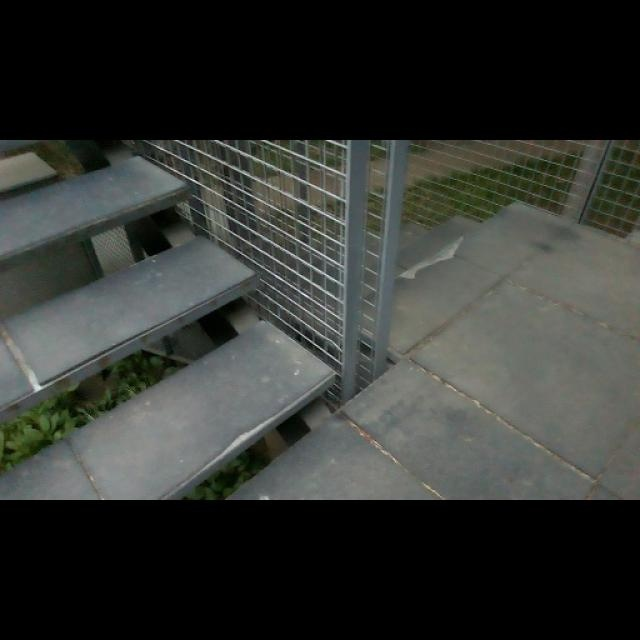stair: (0, 205, 327, 494), (382, 192, 516, 331)
